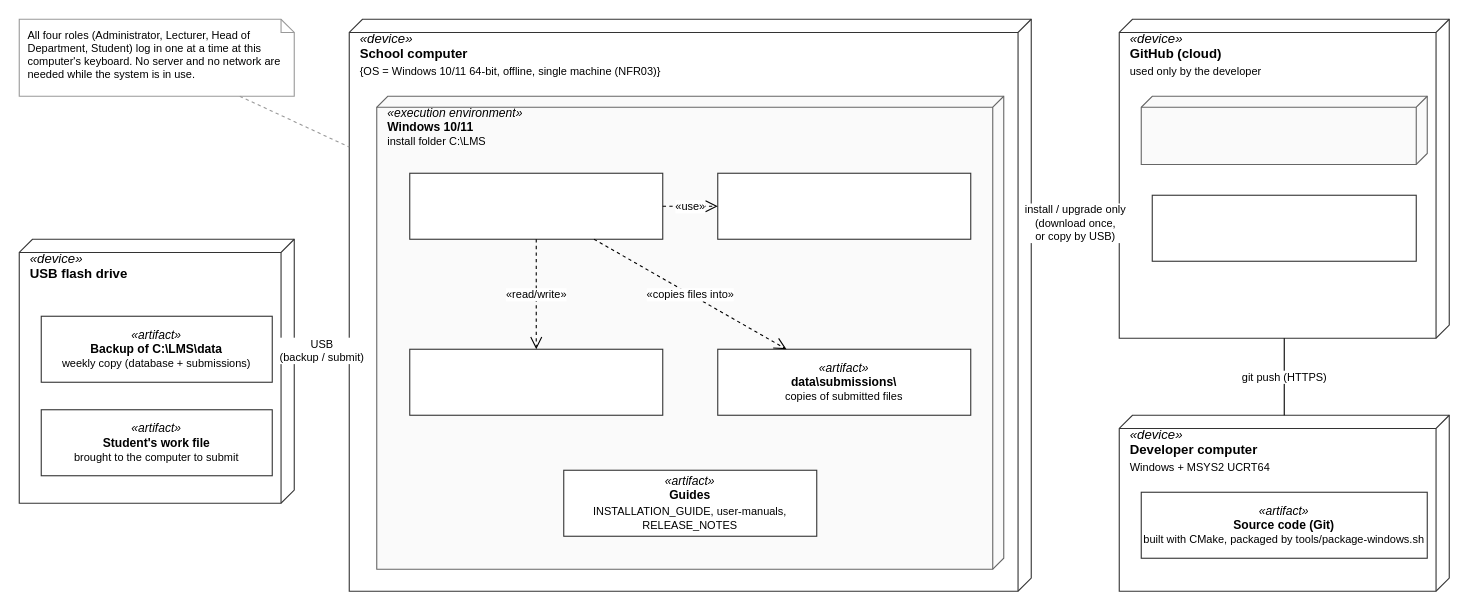
Some shapes in this 1469 by 611 pixel diagram are drawn without their labels. The box of each missing label's shape, as (x1, y1, x2, y2) in pixels:
«artifact» data\lms.db SQLite database file (schema v1): (409, 348, 663, 415)
«artifact» LMS-1.0.0-windows.zip release v1.0 (tag v1.0): (1151, 194, 1416, 261)
«artifact» lms.exe Moderated LMS 1.0.0 (console program): (409, 172, 663, 239)
«artifact» Runtime DLLs libsqlite3, libsodium, C++ runtime: (717, 172, 971, 239)
«execution environment» GitHub Actions CI: build, tests, coverage on every push: (1140, 95, 1427, 164)
